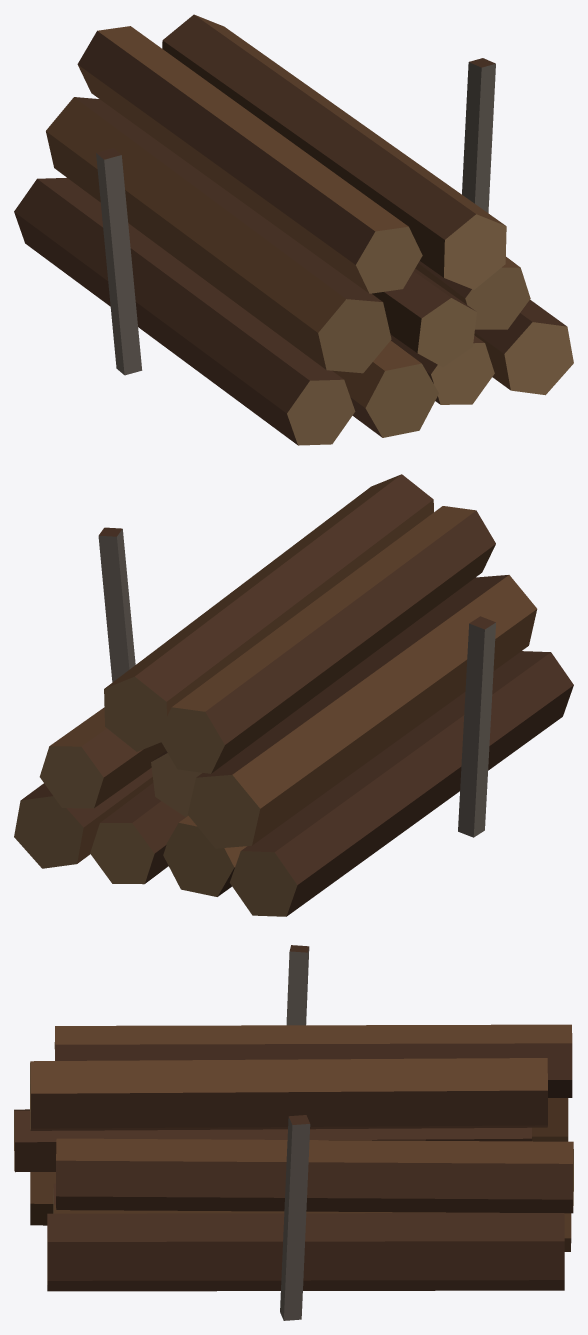
File: log-pile.glb
3 views of the same model, one above another, from view 1: azimuth 30°, elevation 25°; view 2: azimuth 150°, elevation 25°; view 3: azimuth 270°, elevation 25° (orthographic). The views are drawn at different scales.
Visible parts, largest first — view 1: log-pile; view 2: log-pile; view 3: log-pile.
Boxes of the visible parts, x1,y1,x2,y2 form: log-pile: (14,14,573,445); log-pile: (14,474,573,916); log-pile: (14,945,573,1320).
Bounding box in the file's own units: 0.9882 × 0.5247 × 1.3.
